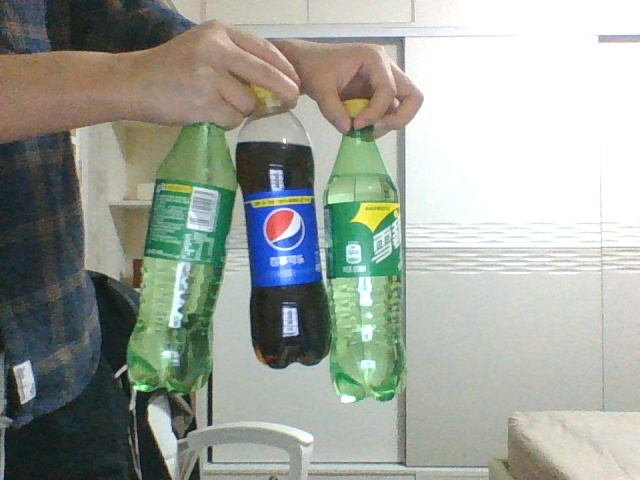Cola: (235, 80, 331, 369)
Sprite: (125, 119, 237, 393), (321, 98, 408, 403)
